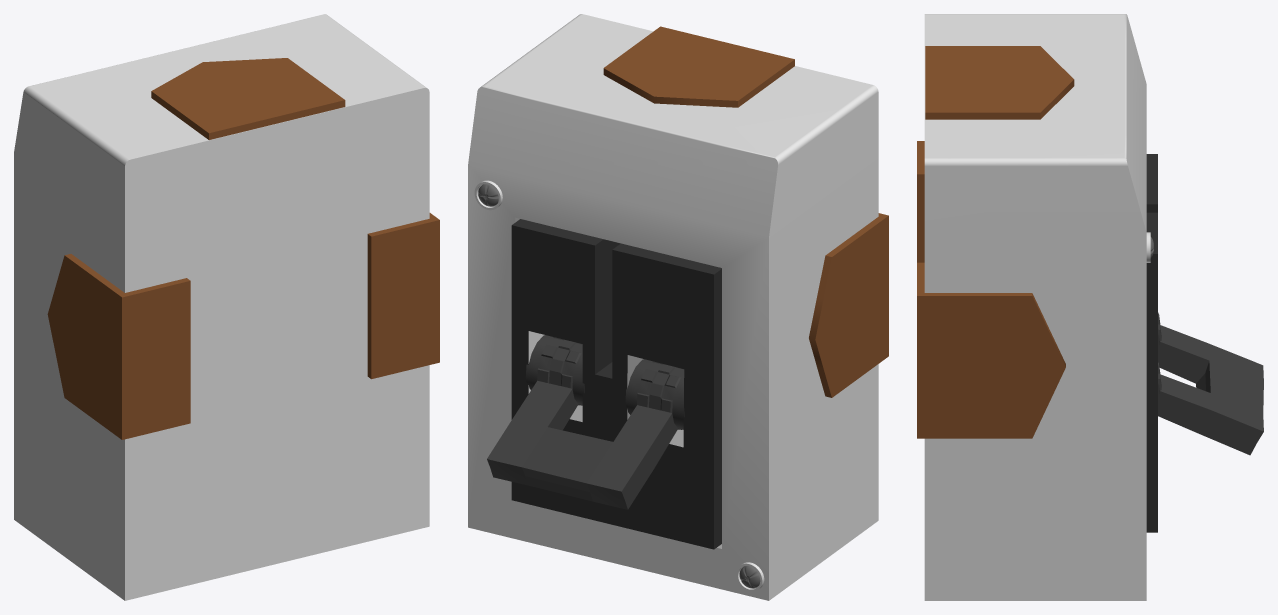
The model's file is CriccuitBreaker.fbx.
3 renders of one model, left to right at view 1: azimuth 30°, elevation 25°; view 2: azimuth 150°, elevation 25°; view 3: azimuth 270°, elevation 25°, orthographic.
Parts seen in each view (by area): view 1: pCube2, pCube3, pCube4, pCube5; view 2: pCube2, pCylinder3, pCube3, pCube5, pSphere3, pSphere2; view 3: pCube2, pCube4, pCube5, pCylinder3, pCube3.
Part boxes in pixels (<box>): pCube2: <box>14,14,429,600</box>; pCube3: <box>47,254,190,439</box>; pCube4: <box>367,213,439,379</box>; pCube5: <box>151,58,345,139</box>; pCube2: <box>468,14,878,600</box>; pCylinder3: <box>487,335,684,509</box>; pCube3: <box>809,213,888,397</box>; pCube5: <box>603,26,794,107</box>; pSphere3: <box>474,180,502,210</box>; pSphere2: <box>736,562,764,591</box>; pCube2: <box>924,14,1157,600</box>; pCube4: <box>917,262,1065,438</box>; pCube5: <box>925,46,1074,119</box>; pCylinder3: <box>1158,312,1263,455</box>; pCube3: <box>917,141,924,262</box>.
Size of the model in its own units: 2.16 by 2.91 by 2.04.
